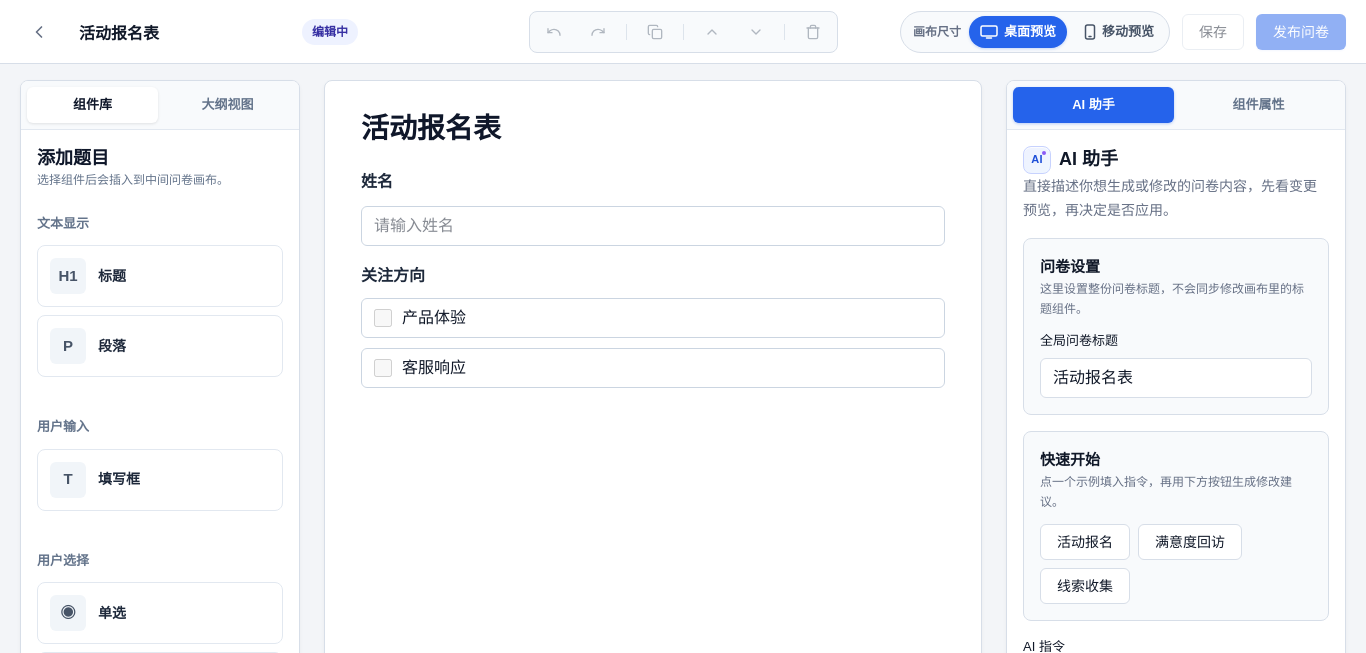
Test: EditorShell › switches to inspector when a canvas block is selected
Click the field labelled "姓名" at x=653, y=226, box [361, 206, 945, 246]
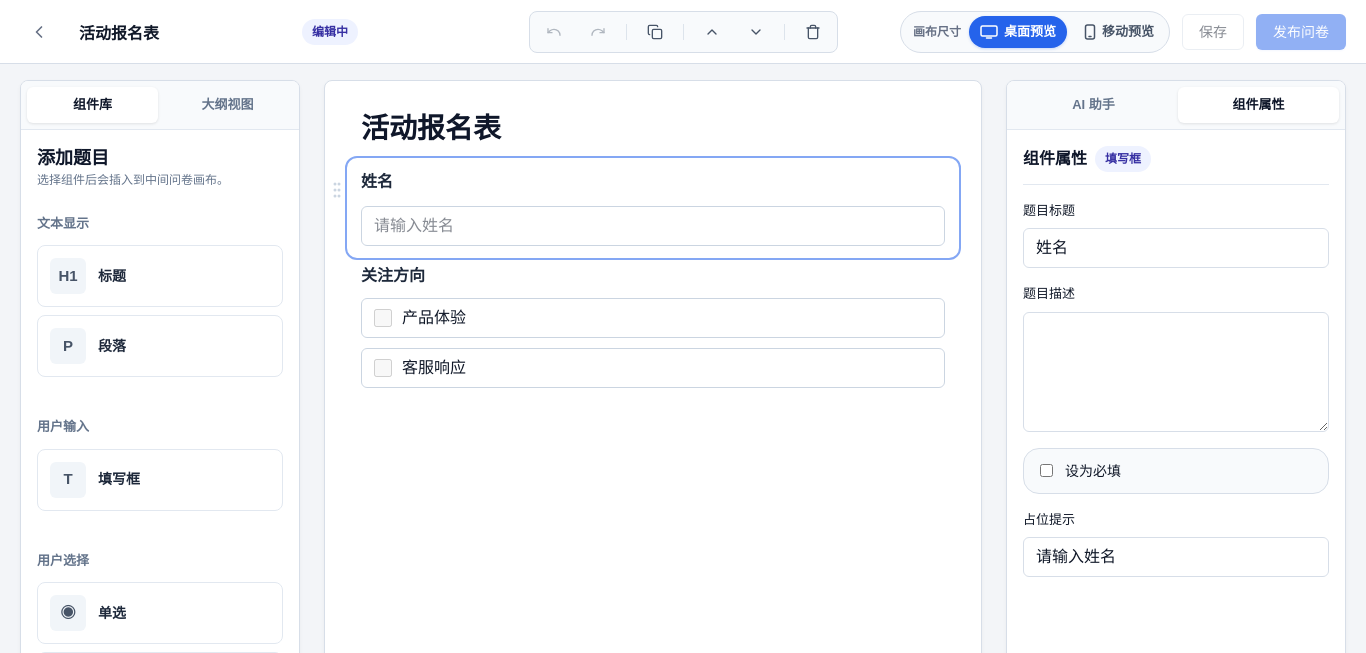
Expected: the field labelled "题目标题" holds "姓名", [1023, 228, 1329, 268]
